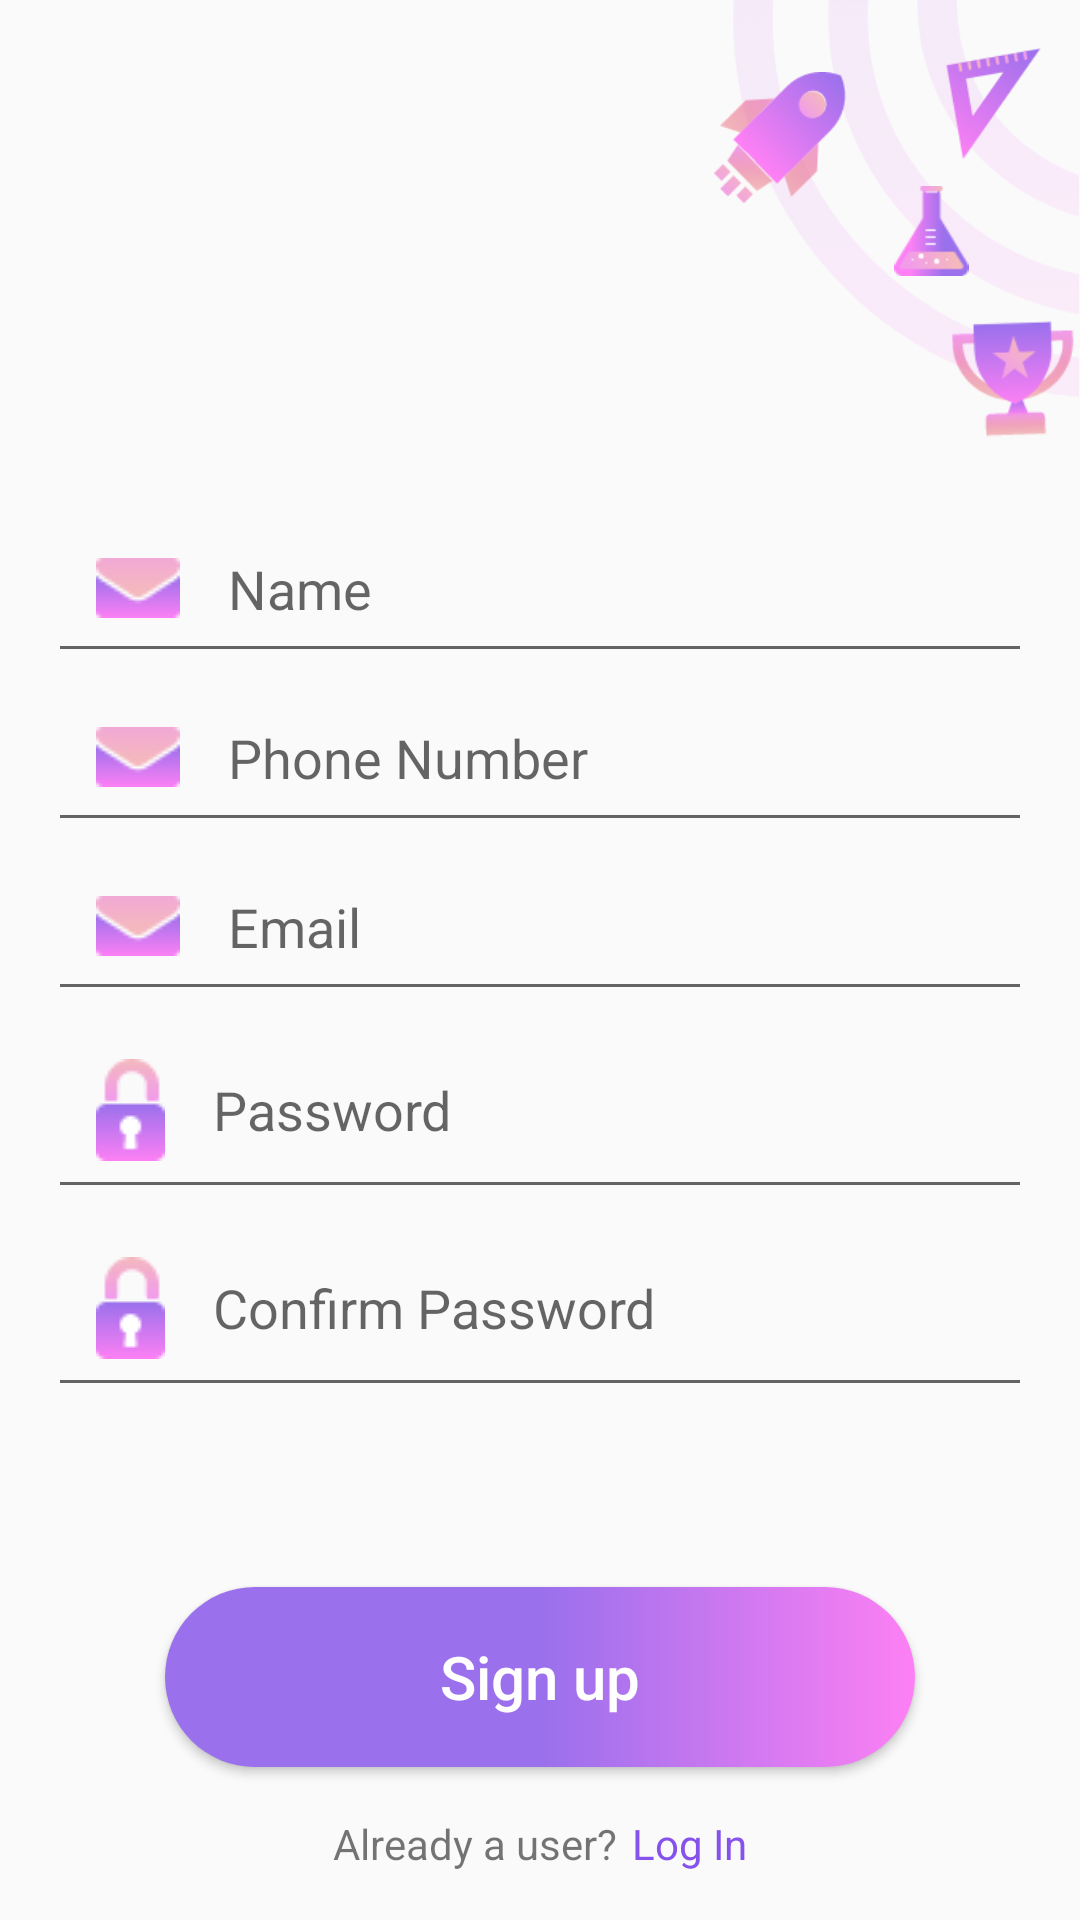

Screen size 1080 × 1920. Icon name, then its box in pixels as (x1, y1, x2, y2):
flask: (894, 186, 969, 276)
rocket: (714, 72, 846, 203)
triangle: (946, 48, 1040, 159)
trophy: (952, 321, 1074, 436)
